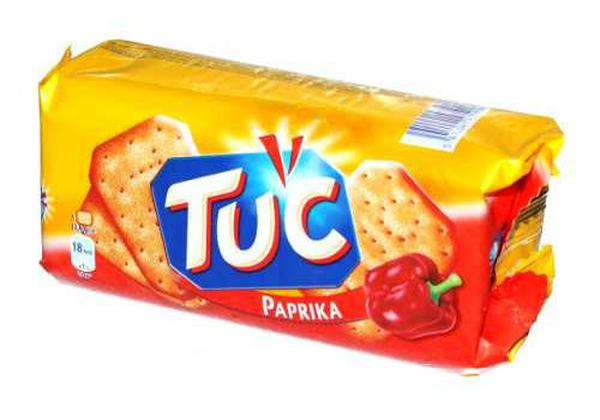crackers tuc: (50, 73, 527, 360)
